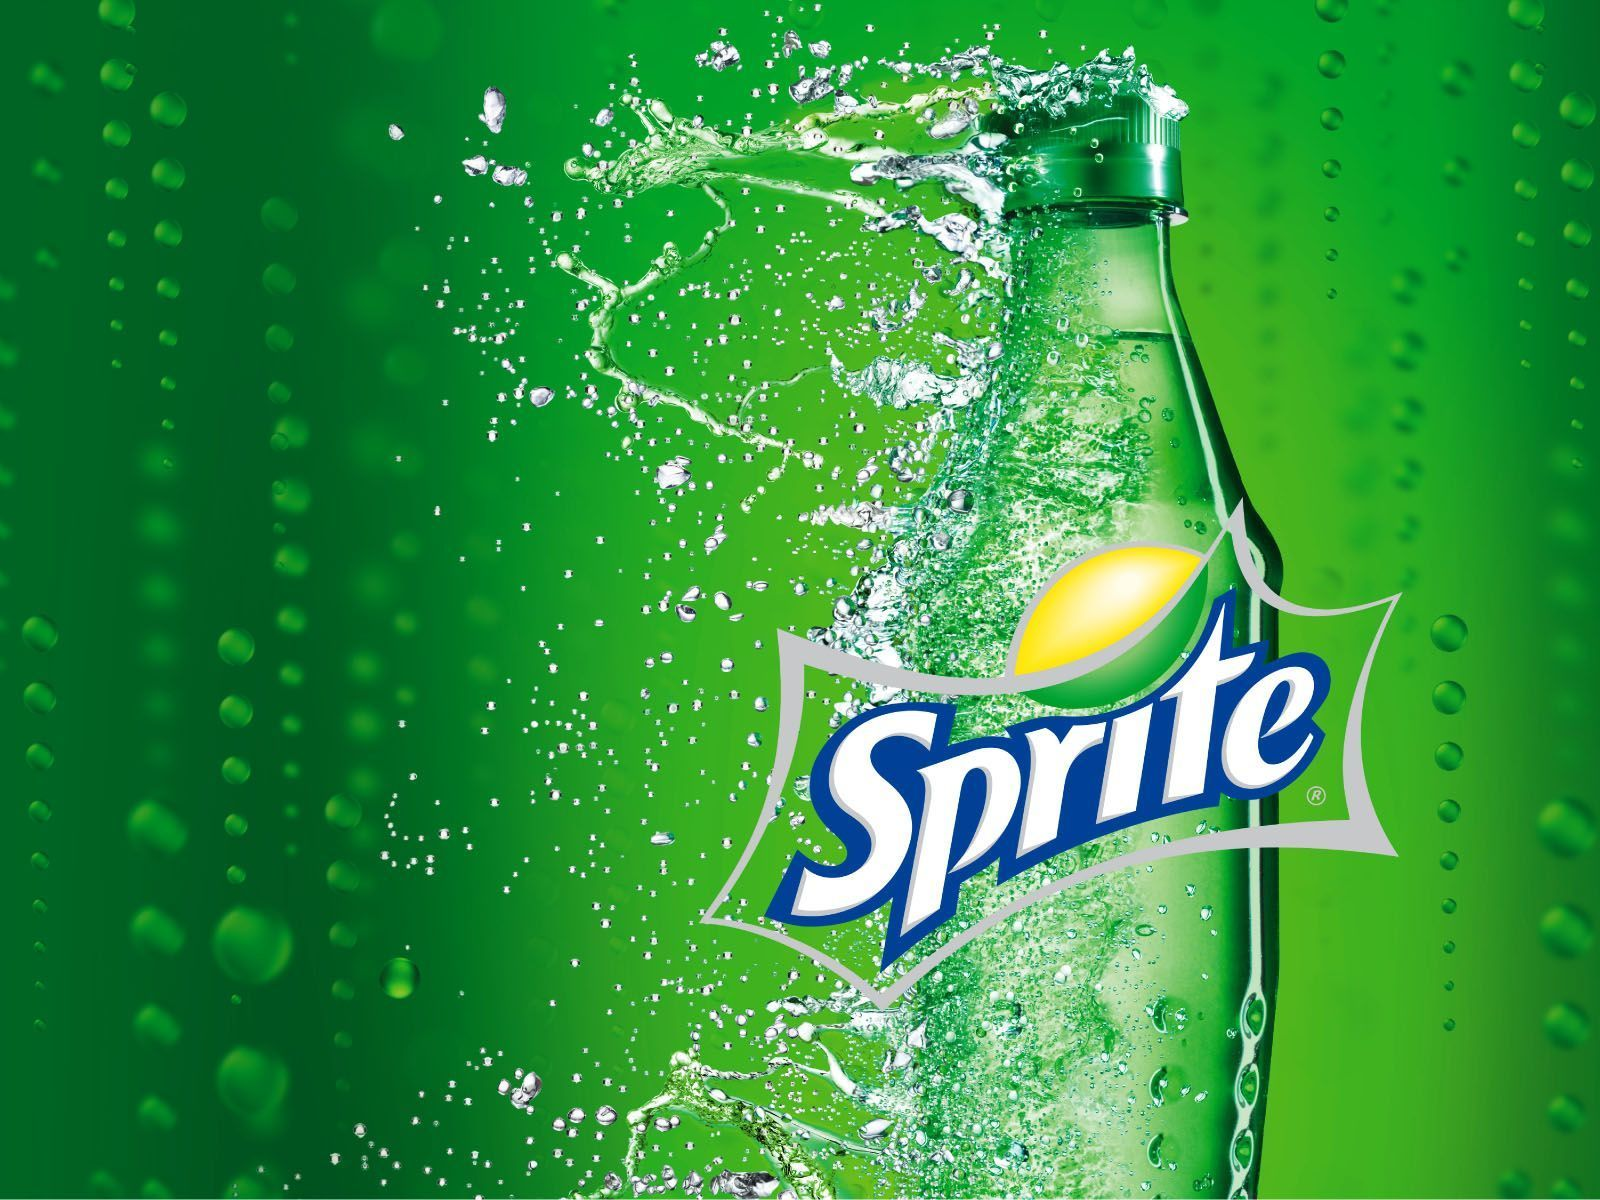Sprite: (876, 100, 1277, 1177)
